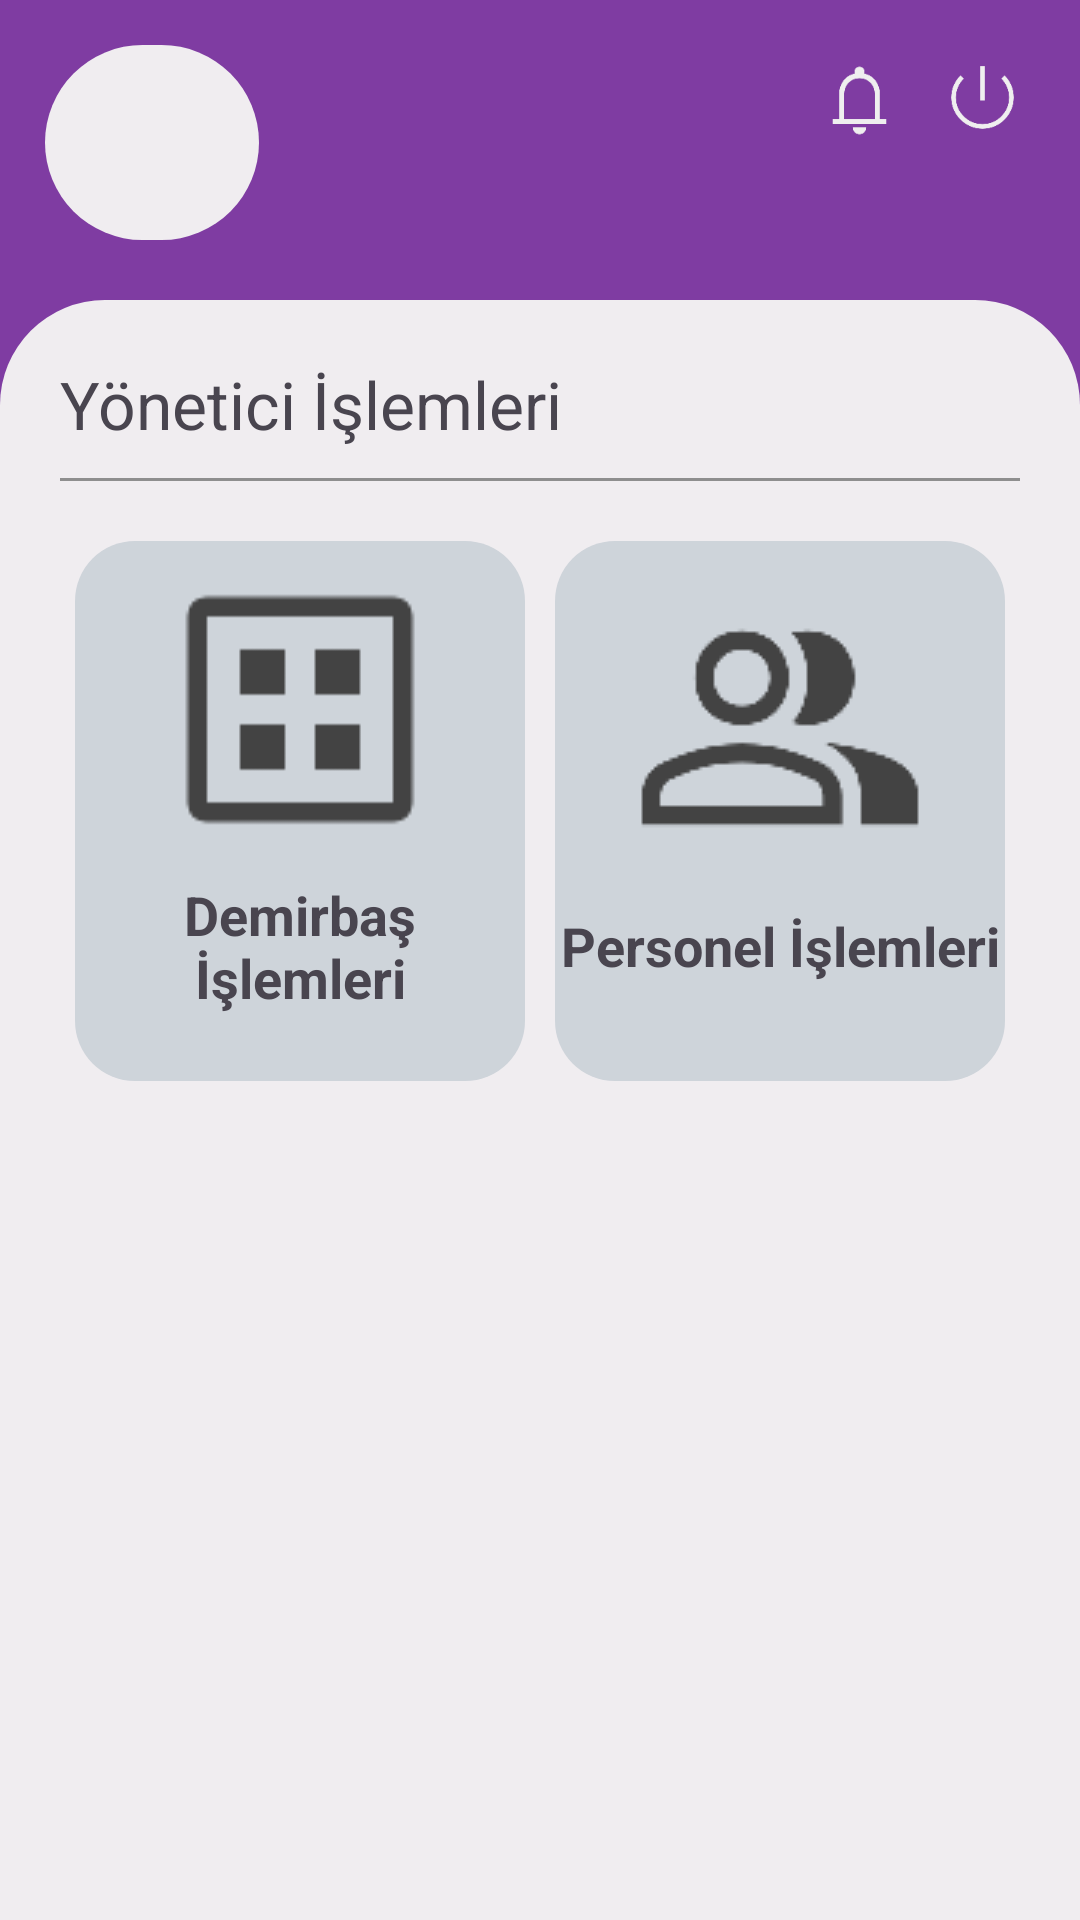

Named icons in this screenshot (1080*1920) and their bounding boxes, Rect(x1, y1, x2, y2):
not: Rect(832, 66, 887, 135)
power: Rect(951, 66, 1014, 129)
